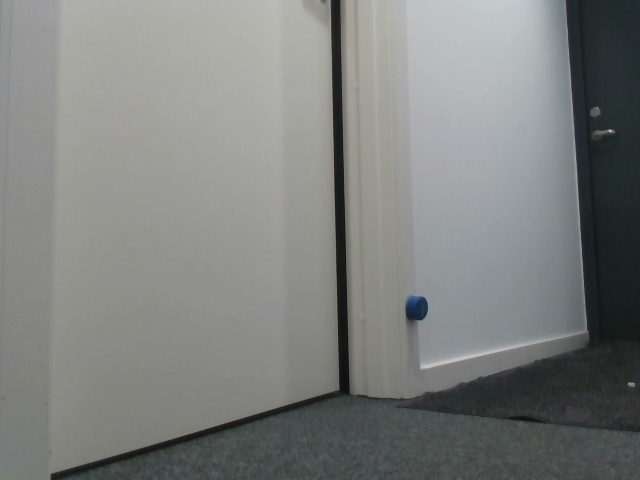alfa: (404, 293, 429, 323)
